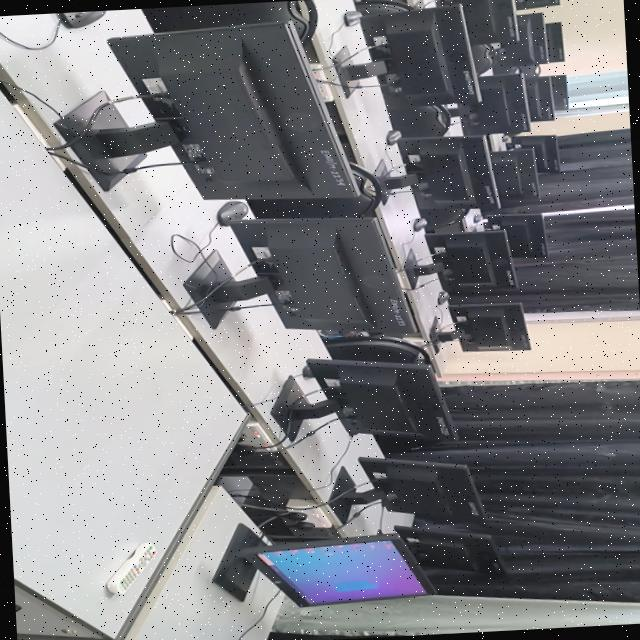Chair: (247, 163, 386, 218), (141, 0, 317, 43), (322, 334, 428, 363), (388, 106, 451, 137), (470, 45, 506, 75), (420, 208, 468, 230), (355, 0, 417, 16)
Monitor: (107, 21, 356, 199), (228, 217, 412, 334), (272, 358, 455, 441), (255, 534, 433, 606), (361, 6, 479, 105), (342, 457, 482, 524), (399, 136, 498, 208), (425, 230, 516, 289), (450, 74, 529, 135), (449, 303, 530, 352), (446, 0, 516, 44), (485, 214, 547, 258), (490, 150, 538, 200), (511, 136, 560, 173), (545, 22, 564, 63), (549, 75, 569, 111), (517, 0, 559, 9)
Mouse: (57, 11, 106, 28), (217, 201, 248, 226), (344, 11, 362, 27), (386, 130, 401, 145), (413, 218, 426, 232), (437, 291, 449, 305)
